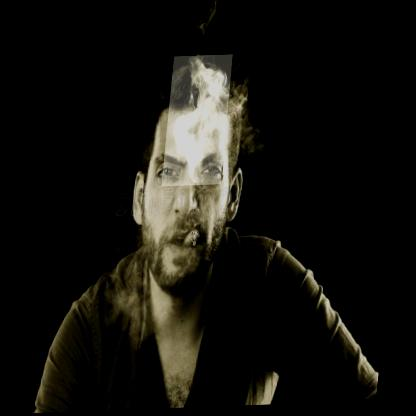smoke: (165, 56, 234, 188)
